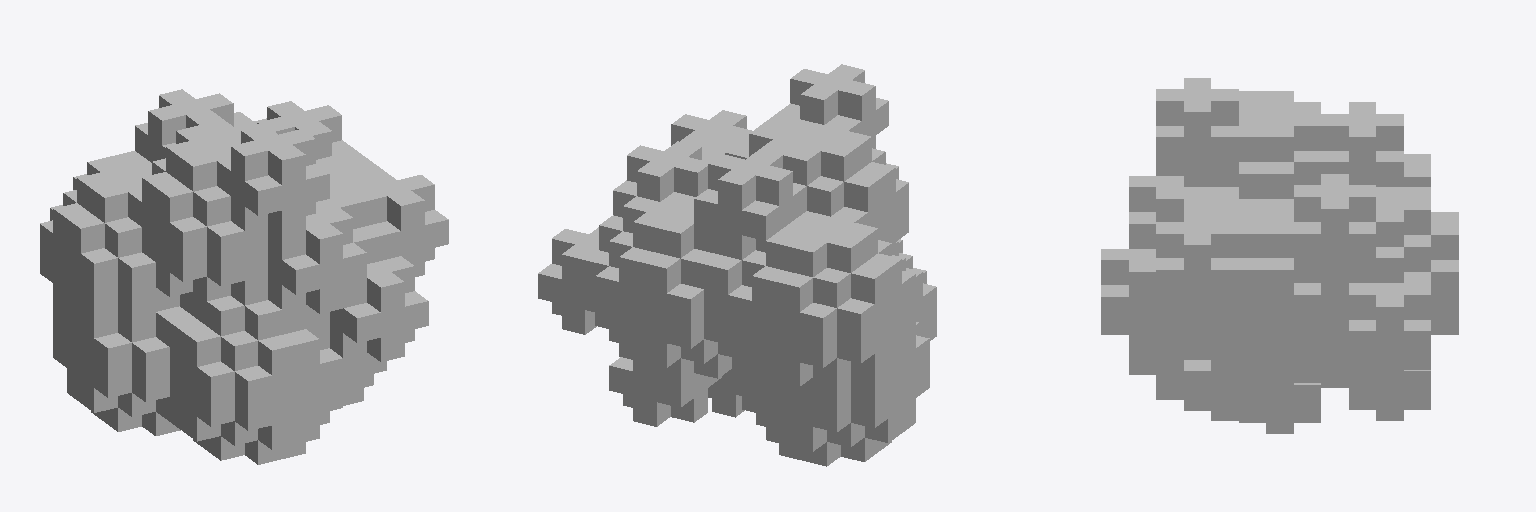
Rendered from SC_Rock5.obj.
3 renders of one model, left to right at view 1: azimuth 30°, elevation 25°; view 2: azimuth 150°, elevation 25°; view 3: azimuth 270°, elevation 25°, orthographic.
Parts seen in each view (by area): view 1: SC_Rock5; view 2: SC_Rock5; view 3: SC_Rock5.
Boxes of the visible parts, <box> form: SC_Rock5: <box>40,89,448,464</box>; SC_Rock5: <box>538,64,936,466</box>; SC_Rock5: <box>1101,78,1458,433</box>.
Size of the model in its own units: 13 by 12 by 13.